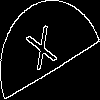X: (25, 25, 62, 81)
